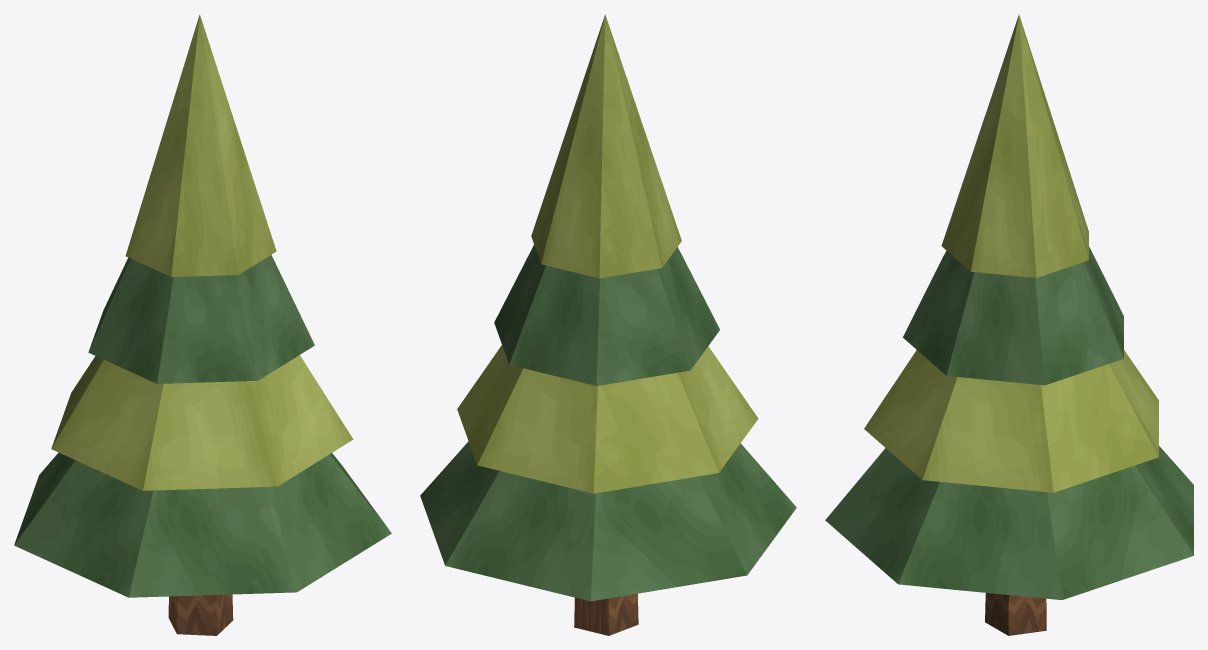
Rendered from arvore-pinheiro-v03.gltf.
3 renders of one model, left to right at view 1: azimuth 30°, elevation 25°; view 2: azimuth 150°, elevation 25°; view 3: azimuth 270°, elevation 25°, orthographic.
Visible parts, largest first — view 1: tronco-galhos-copa; view 2: tronco-galhos-copa; view 3: tronco-galhos-copa.
Boxes of the visible parts, x1,y1,x2,y2 form: tronco-galhos-copa: (14, 14, 391, 635); tronco-galhos-copa: (420, 14, 796, 635); tronco-galhos-copa: (825, 14, 1193, 635).
Bounding box in the file's own units: 2.44 × 4.32 × 2.38.
1 material, 1 textured.
